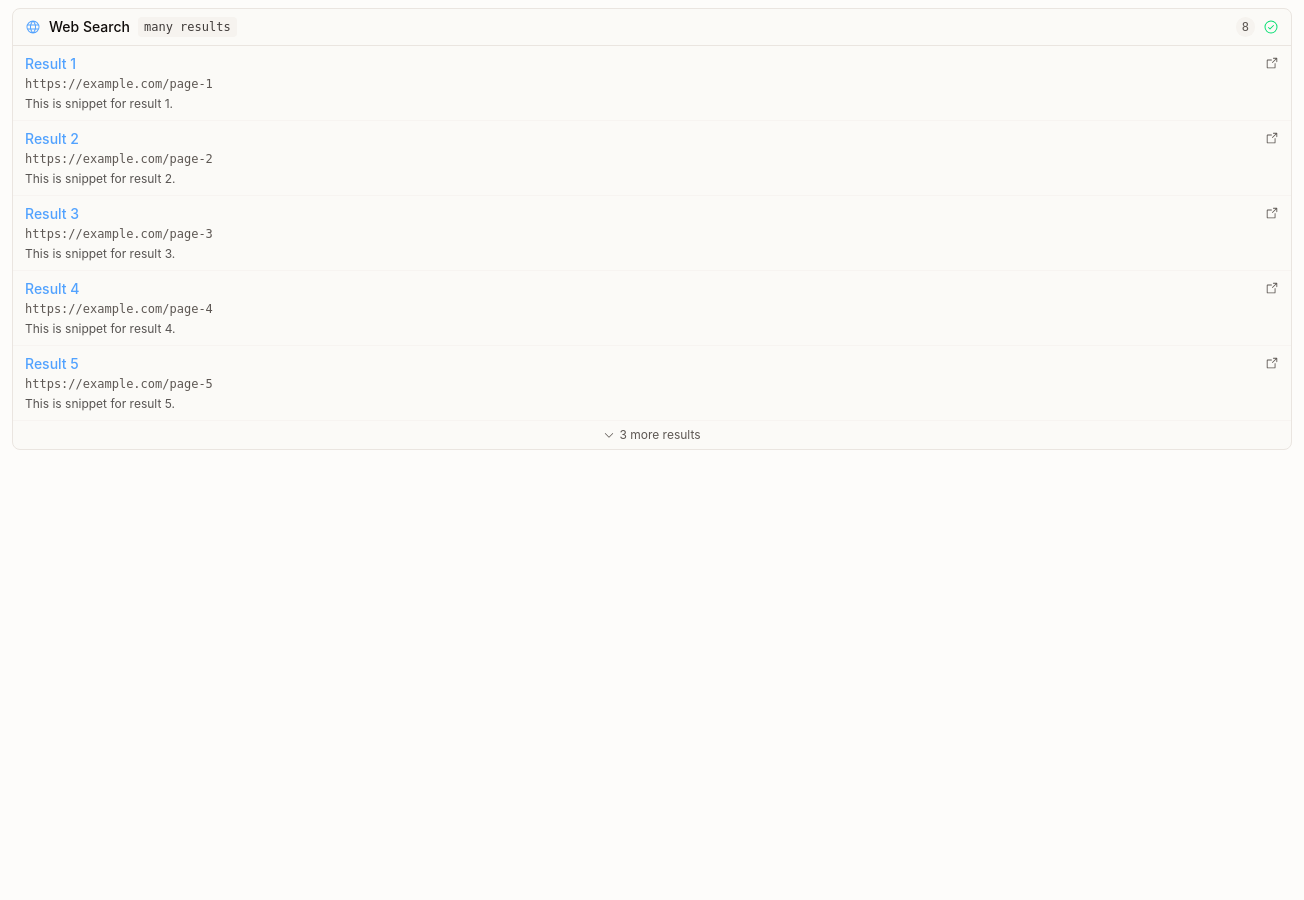
Test: WebSearchDisplay › expands to show all results when expand button is clicked
The width and height of the screenshot is (1304, 900).
Click the button with test id "websearch-expand-btn". click: coordinates (652, 435)
box: [13,421,1291,449]
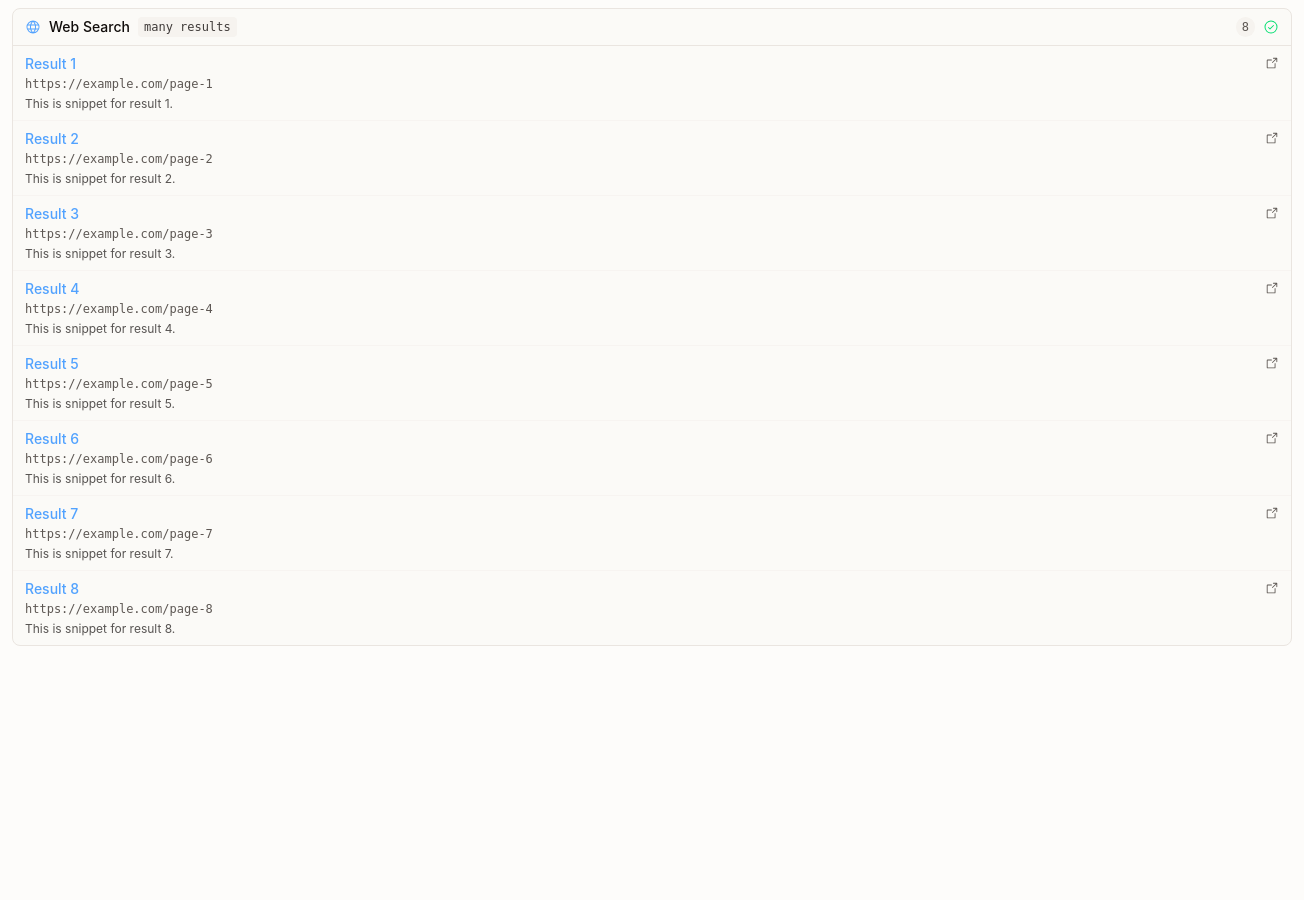
Check: the number of elements with test id "websearch-result-card" is 8
